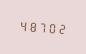eight: (28, 18, 37, 33)
four: (18, 18, 27, 32)
seven: (38, 19, 47, 34)
two: (58, 21, 67, 35)
zero: (48, 20, 57, 34)
